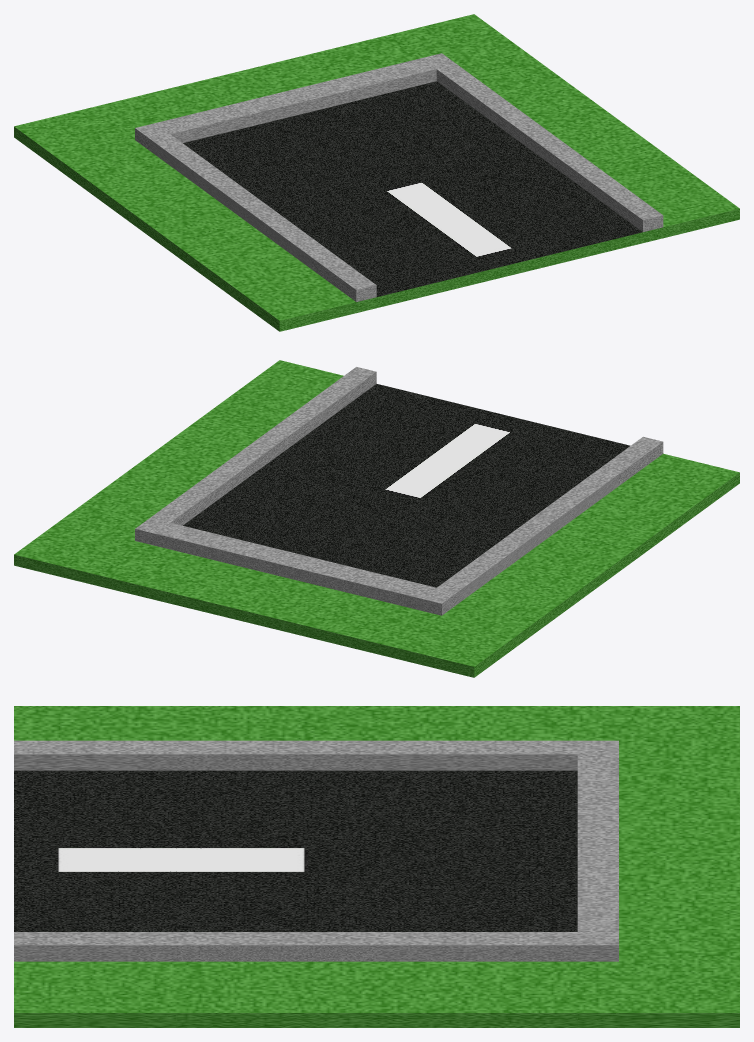
The model's file is CityRoad_End_Asset.fbx.
3 renders of one model, top to bottom at view 1: azimuth 30°, elevation 25°; view 2: azimuth 150°, elevation 25°; view 3: azimuth 270°, elevation 25°, orthographic. The views are drawn at different scales.
Parts seen in each view (by area): view 1: CityRoad_End; view 2: CityRoad_End; view 3: CityRoad_End.
Boxes of the visible parts, x1,y1,x2,y2 form: CityRoad_End: [14, 14, 739, 331]; CityRoad_End: [14, 360, 739, 677]; CityRoad_End: [14, 706, 739, 1027].
Bounding box in the file's own units: 3.15 × 0.1506 × 3.15.
